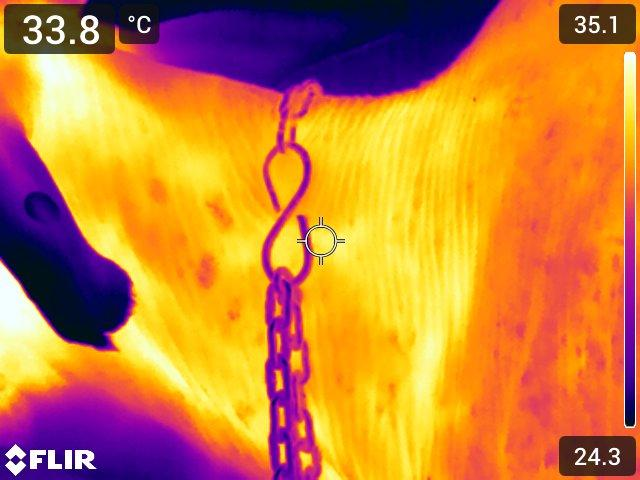neck: (188, 48, 424, 480)
